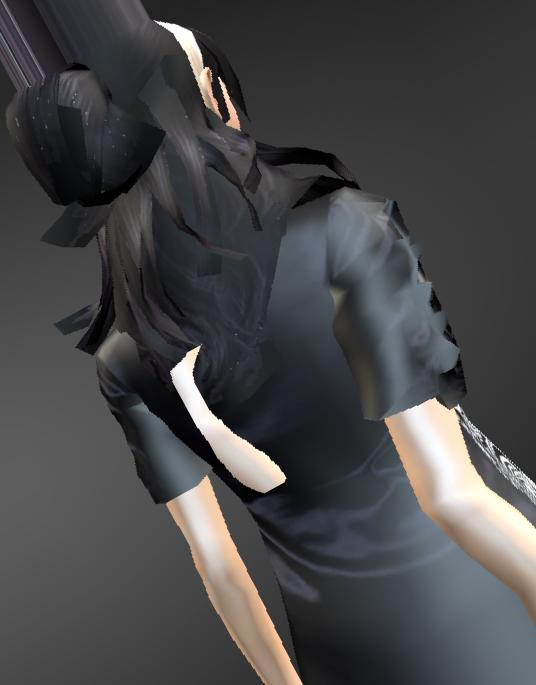clip: (160, 341, 223, 416)
